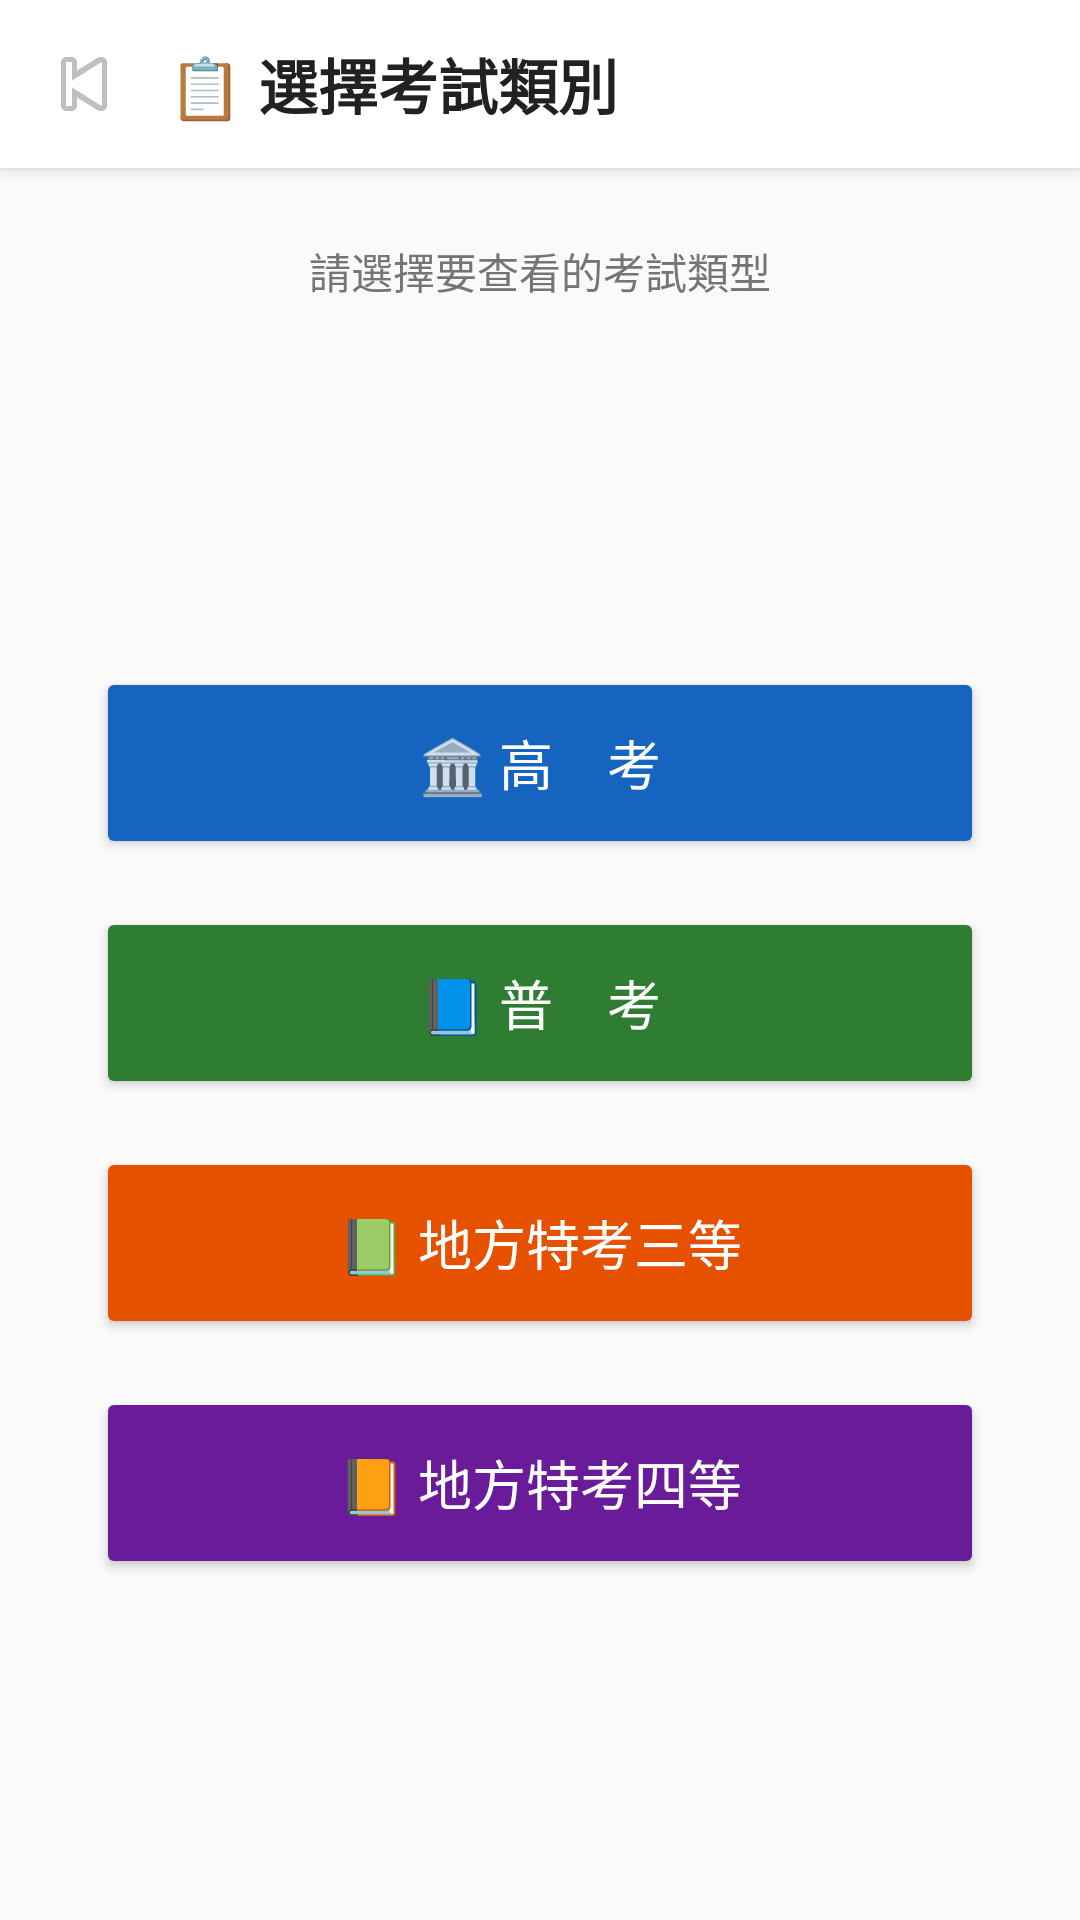

Named icons in this screenshot (1080×1920) and their bounding boxes, (x1, y1, x2, y2):
返回: (61, 57, 107, 111)
